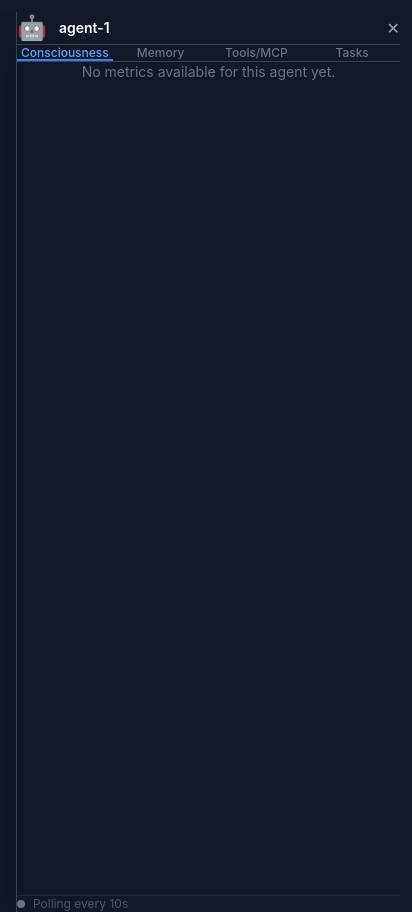
MemoryTabContent › shows error message when memory endpoint fails and data is null
The width and height of the screenshot is (412, 912).
Click the tab "Memory" at (161, 53), box [113,45,209,61]
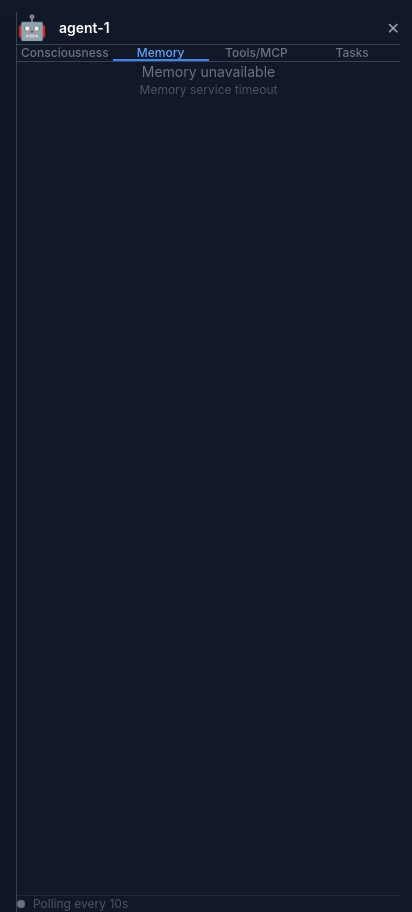
Expected: the text "Memory unavailable" is shown, [142,63,275,80]
Expected: the text "Memory service timeout" is shown, [140,82,277,97]
